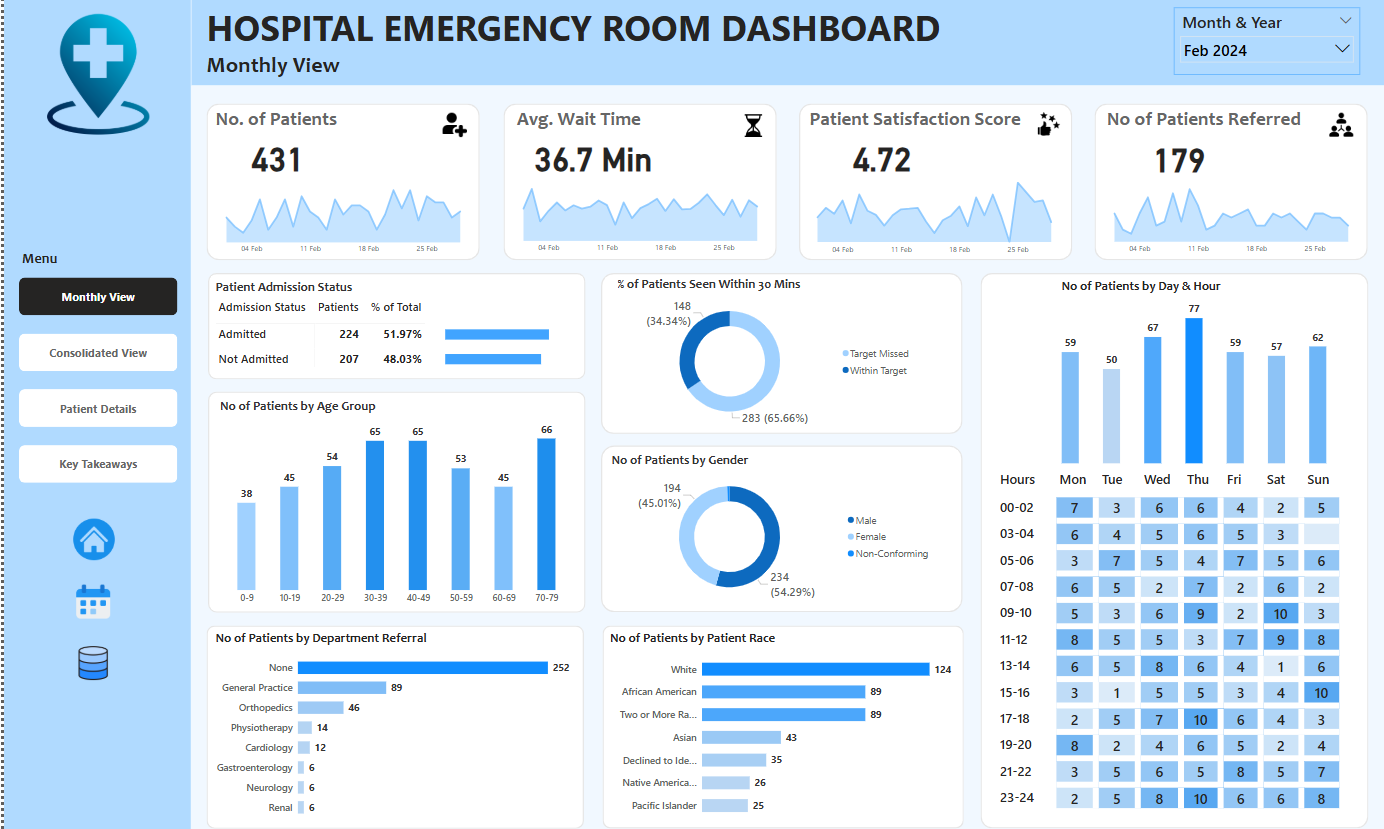

This screenshot's page, from the dashboard's own definition file:
{"tool":"powerbi","page":{"name":"Monthly View","canvas":[2300,1400],"ordinal":0},"visuals":[{"type":"shape","box":[338.5,171.3,455.5,261.2],"z":0},{"type":"shape","box":[1324.7,171.3,455.5,261.2],"z":1000},{"type":"shape","box":[0,0,311.3,1399.9],"z":2000},{"type":"shape","box":[831.6,171.3,455.5,261.2],"z":3000},{"type":"card","fields":{"Values":["Hospital ER_Hospital ER.No of Patients"]},"box":[374,225.7,160.9,66.9],"z":4000},{"type":"card","fields":{"Values":["Hospital ER_Hospital ER.Avg Wait Time"]},"box":[869.2,225.7,223.6,66.9],"z":5000},{"type":"card","fields":{"Values":["Avg(Hospital ER_Hospital ER.Patient Satisfaction Score)"]},"box":[1381.4,225.6,160.9,66.9],"z":6000},{"type":"shape","box":[1817.8,171.3,455.5,261.2],"z":7000},{"type":"card","fields":{"Values":["Hospital ER_Hospital ER.Measure"]},"box":[1876.7,227.6,160.9,66.9],"z":8000},{"type":"shape","box":[311.3,0,1989.1,142.1],"z":9000},{"type":"slicer","fields":{"Values":["Calendar Table.Month & Year"]},"box":[1950.8,12.2,309.8,112.1],"z":10000},{"type":"textbox","box":[339.2,171.3,227.8,56.5],"z":11000},{"type":"textbox","box":[841.3,171.3,231.1,56.5],"z":12000},{"type":"textbox","box":[1331.2,172,377.5,55.8],"z":13000},{"type":"textbox","box":[1828.2,173.4,344.8,56.4],"z":14000},{"type":"areaChart","fields":{"Category":["Calendar Table.Date.Variation.Date Hierarchy.Year","Calendar Table.Date.Variation.Date Hierarchy.Quarter","Calendar Table.Date.Variation.Date Hierarchy.Month","Calendar Table.Date.Variation.Date Hierarchy.Day"],"Y":["Hospital ER_Hospital ER.No of Patients"]},"box":[348.4,288.1,435.5,145.2],"z":15000},{"type":"areaChart","fields":{"Category":["Calendar Table.Date.Variation.Date Hierarchy.Year","Calendar Table.Date.Variation.Date Hierarchy.Quarter","Calendar Table.Date.Variation.Date Hierarchy.Month","Calendar Table.Date.Variation.Date Hierarchy.Day"],"Y":["Avg(Hospital ER_Hospital ER.Patient Waittime)"]},"box":[842.1,285.9,435.5,145.2],"z":16000},{"type":"areaChart","fields":{"Category":["Calendar Table.Date.Variation.Date Hierarchy.Year","Calendar Table.Date.Variation.Date Hierarchy.Quarter","Calendar Table.Date.Variation.Date Hierarchy.Month","Calendar Table.Date.Variation.Date Hierarchy.Day"],"Y":["Avg(Hospital ER_Hospital ER.Patient Satisfaction Score)"]},"box":[1333.4,290.4,435.5,142.9],"z":17000},{"type":"areaChart","fields":{"Category":["Calendar Table.Date.Variation.Date Hierarchy.Year","Calendar Table.Date.Variation.Date Hierarchy.Quarter","Calendar Table.Date.Variation.Date Hierarchy.Month","Calendar Table.Date.Variation.Date Hierarchy.Day"],"Y":["Hospital ER_Hospital ER.Measure"]},"box":[1827.1,288.1,435.5,145.2],"z":18000},{"type":"textbox","box":[331.7,0,1281,88.9],"z":19000},{"type":"image","box":[1222.3,183.9,52.2,48.1],"z":20000},{"type":"image","box":[724.8,183.1,52.8,51.2],"z":21000},{"type":"image","box":[2198,181.8,62.7,50],"z":22000},{"type":"image","box":[1713.3,179.7,58.5,52.2],"z":23000},{"type":"shape","box":[338.9,455,629.1,177.3],"z":24000},{"type":"shape","box":[994.7,455,602.5,268.3],"z":25000},{"type":"shape","box":[1626.9,455,646.4,925.6],"z":26000},{"type":"shape","box":[996.2,743.7,602.5,277.7],"z":27000},{"type":"donutChart","title":"% of Patients Seen Within 30 Mins","fields":{"Y":["Hospital ER_Hospital ER.No of Patients"],"Category":["Hospital ER_Hospital ER.Waittime Status"]},"box":[1016.6,461,504.4,257.6],"z":28000},{"type":"donutChart","title":"No of Patients by Gender","fields":{"Y":["Hospital ER_Hospital ER.No of Patients"],"Category":["Hospital ER_Hospital ER.Full Gender"]},"box":[1007.2,753.1,547.5,257.3],"z":29000},{"type":"shape","box":[338.9,652.7,629.1,368.7],"z":30000},{"type":"pivotTable","title":"Patient Admission Status","fields":{"Rows":["Hospital ER_Hospital ER.Admission Status"],"Values":["Hospital ER_Hospital ER.No of Patients1","Hospital ER_Hospital ER.No of Patients"]},"box":[347.9,465.5,610,158.3],"z":31000},{"type":"barChart","fields":{"Category":["Hospital ER_Hospital ER.Admission Status"],"Y":["Hospital ER_Hospital ER.No of Patients"]},"box":[729.5,514.6,241.6,120.8],"z":32000},{"type":"clusteredColumnChart","fields":{"Category":["Hospital ER_Hospital ER.Age Group"],"Y":["Hospital ER_Hospital ER.No of Patients"]},"box":[354.6,662.7,599.3,354.6],"z":33000},{"type":"shape","box":[337.3,1041.7,629.1,338.9],"z":34000},{"type":"clusteredBarChart","fields":{"Category":["Hospital ER_Hospital ER.Department Referral"],"Y":["Hospital ER_Hospital ER.No of Patients"]},"box":[348.3,1049.6,602.5,324.8],"z":35000},{"type":"shape","box":[996.5,1043,602.2,338.4],"z":36000},{"type":"clusteredBarChart","fields":{"Y":["Hospital ER_Hospital ER.No of Patients"],"Category":["Hospital ER_Hospital ER.Patient Race"]},"box":[1005.8,1049.2,578.9,324.4],"z":37000},{"type":"pivotTable","fields":{"Columns":["Calendar Table.Day Name"],"Rows":["Hospital ER_Hospital ER.Waittime Interval"],"Values":["Hospital ER_Hospital ER.No of Patients"]},"box":[1649.4,776.5,606.9,583.6],"z":38000},{"type":"clusteredColumnChart","title":"No of Patients by Day & Hour","fields":{"Category":["Calendar Table.Day Name"],"Y":["Hospital ER_Hospital ER.No of Patients"]},"box":[1758.7,461.3,453.4,315.3],"z":39000},{"type":"textbox","box":[333.7,79.2,411.3,59],"z":40000},{"type":"pageNavigator","box":[24.2,462.3,264.1,343.1],"z":41000},{"type":"textbox","box":[24.2,409.1,99.9,48.3],"z":42000},{"type":"image","box":[110.1,854.1,79.5,87.7],"z":46000},{"type":"image","box":[116.2,966.2,67.3,75.4],"z":47000},{"type":"image","box":[116.2,1068.1,67.3,75.4],"z":48000},{"type":"image","box":[46.9,17.9,218.9,212.2],"z":50000}]}

Visuals, with their boxes in screenshot pixels (x1, y1, x2, y2), scaled from the page's 2300x1400 canvas onto the 1384x829 screenshot:
shape: 204:101:478:256
shape: 797:101:1071:256
shape: 0:0:187:828
shape: 500:101:774:256
card - Hospital ER_Hospital ER.No of Patients: 225:134:322:173
card - Hospital ER_Hospital ER.Avg Wait Time: 523:134:658:173
card - Avg(Hospital ER_Hospital ER.Patient Satisfaction Score): 831:134:928:173
shape: 1094:101:1368:256
card - Hospital ER_Hospital ER.Measure: 1129:135:1226:174
shape: 187:0:1383:84
slicer - Calendar Table.Month & Year: 1174:7:1360:74
textbox: 204:101:341:135
textbox: 506:101:645:135
textbox: 801:102:1028:135
textbox: 1100:103:1308:136
areaChart - Calendar Table.Date.Variation.Date Hierarchy.Year x Calendar Table.Date.Variation.Date Hierarchy.Quarter: 210:171:472:257
areaChart - Calendar Table.Date.Variation.Date Hierarchy.Year x Calendar Table.Date.Variation.Date Hierarchy.Quarter: 507:169:769:255
areaChart - Calendar Table.Date.Variation.Date Hierarchy.Year x Calendar Table.Date.Variation.Date Hierarchy.Quarter: 802:172:1064:257
areaChart - Calendar Table.Date.Variation.Date Hierarchy.Year x Calendar Table.Date.Variation.Date Hierarchy.Quarter: 1099:171:1361:257
textbox: 200:0:970:53
image: 736:109:767:137
image: 436:108:468:139
image: 1323:108:1360:137
image: 1031:106:1066:137
shape: 204:269:582:374
shape: 599:269:961:428
shape: 979:269:1368:818
shape: 599:440:962:605
"% of Patients Seen Within 30 Mins" donutChart: 612:273:915:426
"No of Patients by Gender" donutChart: 606:446:936:598
shape: 204:386:582:605
"Patient Admission Status" pivotTable: 209:276:576:369
barChart - Hospital ER_Hospital ER.Admission Status x Hospital ER_Hospital ER.No of Patients: 439:305:584:376
clusteredColumnChart - Hospital ER_Hospital ER.Age Group x Hospital ER_Hospital ER.No of Patients: 213:392:574:602
shape: 203:617:582:818
clusteredBarChart - Hospital ER_Hospital ER.Department Referral x Hospital ER_Hospital ER.No of Patients: 210:622:572:814
shape: 600:618:962:818
clusteredBarChart - Hospital ER_Hospital ER.No of Patients x Hospital ER_Hospital ER.Patient Race: 605:621:954:813
pivotTable - Calendar Table.Day Name x Hospital ER_Hospital ER.Waittime Interval: 993:460:1358:805
"No of Patients by Day & Hour" clusteredColumnChart: 1058:273:1331:460
textbox: 201:47:448:82
pageNavigator: 15:274:173:477
textbox: 15:242:75:271
image: 66:506:114:558
image: 70:572:110:617
image: 70:632:110:677
image: 28:11:160:136
